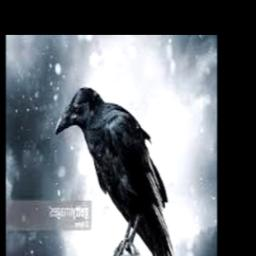Crow: (56, 86, 180, 256)
